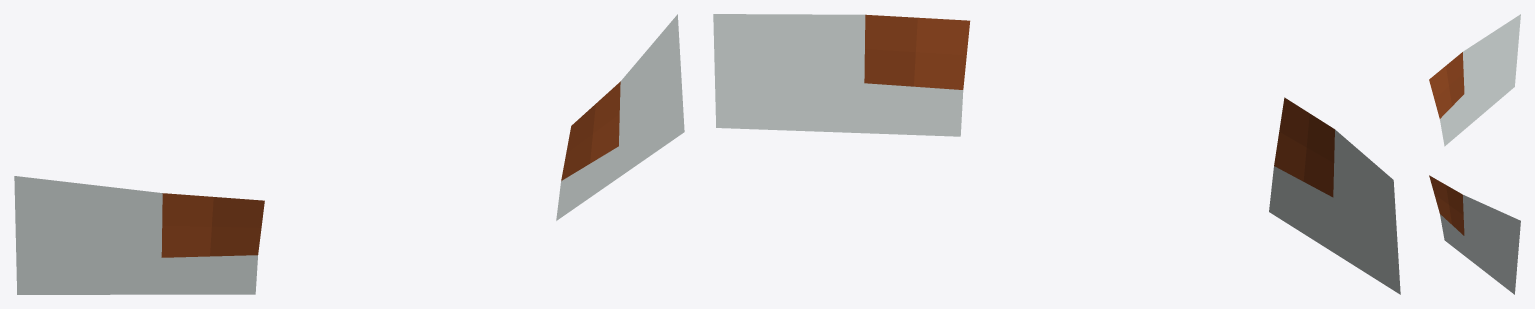
Rendered from yeux_09.fbx.
3 renders of one model, left to right at view 1: azimuth 30°, elevation 25°; view 2: azimuth 150°, elevation 25°; view 3: azimuth 270°, elevation 25°, orthographic. The views are drawn at different scales.
Visible parts, largest first — view 1: Cube.001; view 2: Cube.001; view 3: Cube.001.
Part boxes in pixels (x1,y1,x2,y2): Cube.001: [14, 14, 684, 294]; Cube.001: [713, 14, 1400, 294]; Cube.001: [1429, 14, 1520, 294].
Size of the model in its own units: 114 by 19.45 by 21.3.
